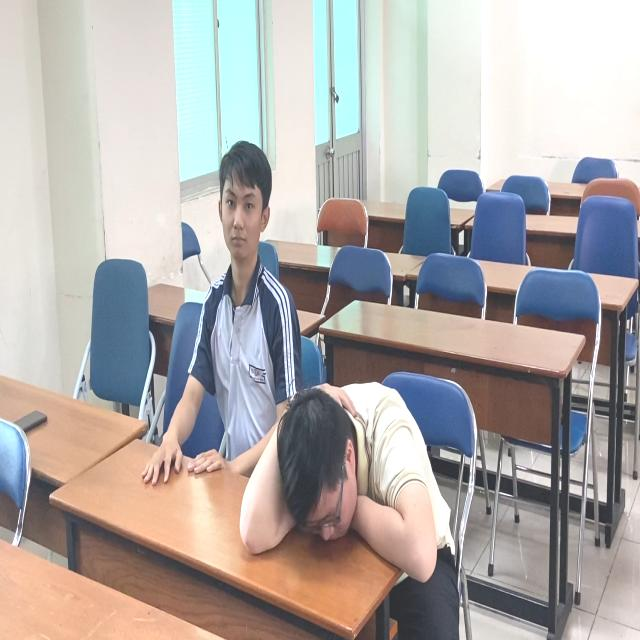sleep: (239, 360, 442, 578)
